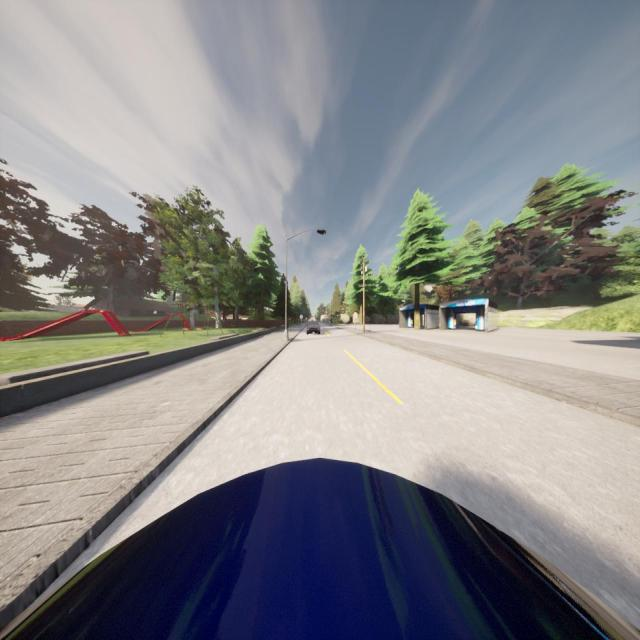Traffic_Signs: (353, 312, 358, 318), (299, 314, 304, 320)
Vehicle: (0, 460, 640, 640), (306, 321, 320, 335)
